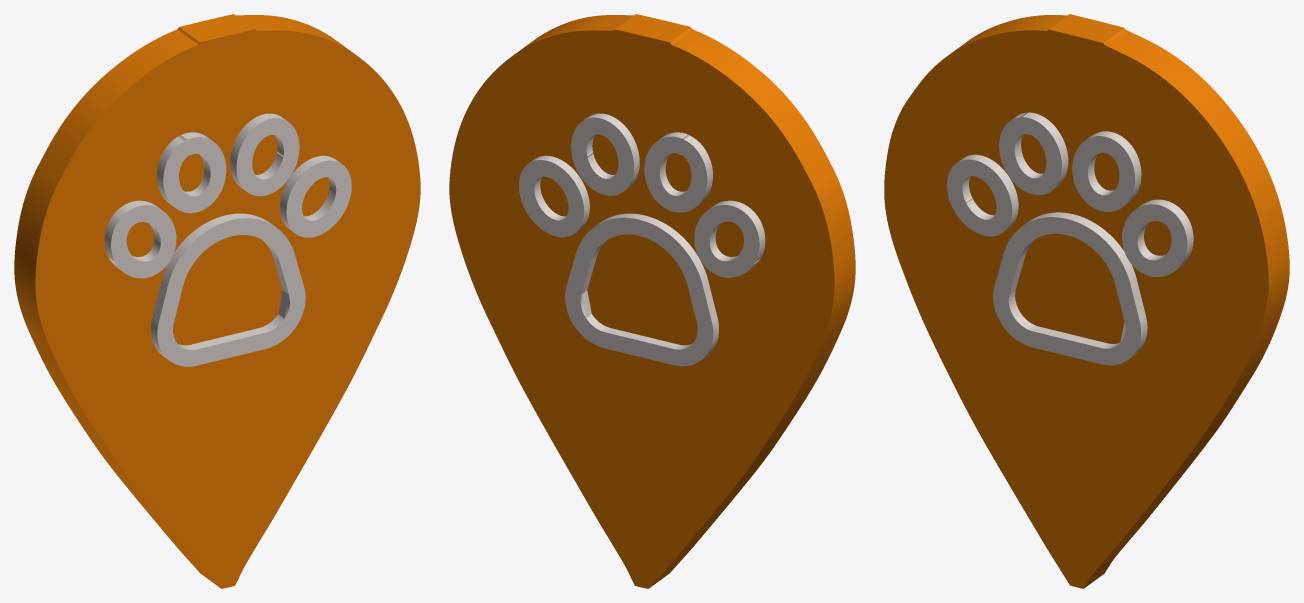
Rendered from animal.glb.
The picture shows the model from 3 angles, left to right: view 1: azimuth 30°, elevation 25°; view 2: azimuth 150°, elevation 25°; view 3: azimuth 330°, elevation 25°; orthographic projection.
Parts seen in each view (by area): view 1: Curve.001; view 2: Curve.001; view 3: Curve.001.
Part boxes in pixels (<box>): Curve.001: <box>14,14,420,588</box>; Curve.001: <box>449,14,855,588</box>; Curve.001: <box>884,14,1289,588</box>.
Size of the model in its own units: 5.28 by 7.22 by 0.7878.
